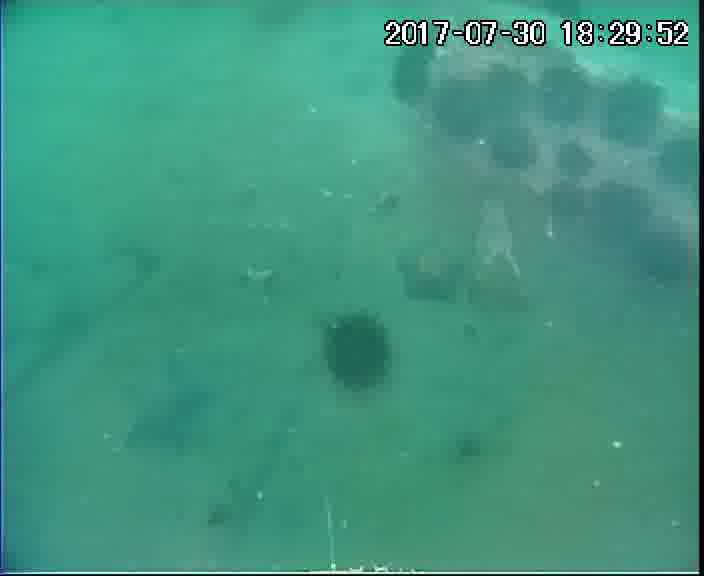echinus: (321, 312, 394, 387), (602, 77, 665, 152), (429, 82, 494, 149), (630, 225, 696, 289), (593, 184, 654, 249), (477, 62, 537, 123), (541, 62, 595, 124), (486, 122, 541, 181), (661, 129, 704, 190), (389, 52, 435, 105), (547, 182, 590, 222), (556, 140, 595, 179)
starfish: (119, 351, 208, 455), (395, 239, 470, 312)
